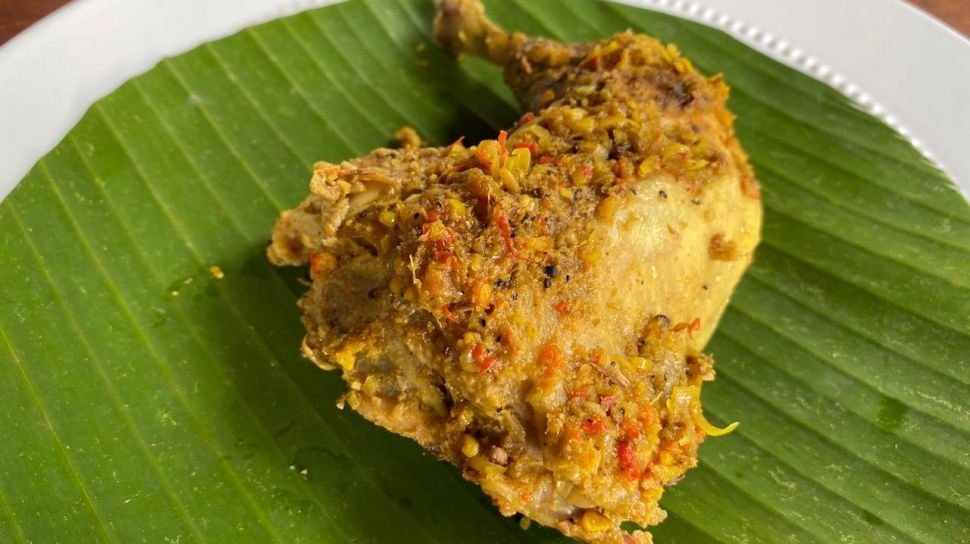ayam_betutu: (270, 2, 763, 544)
